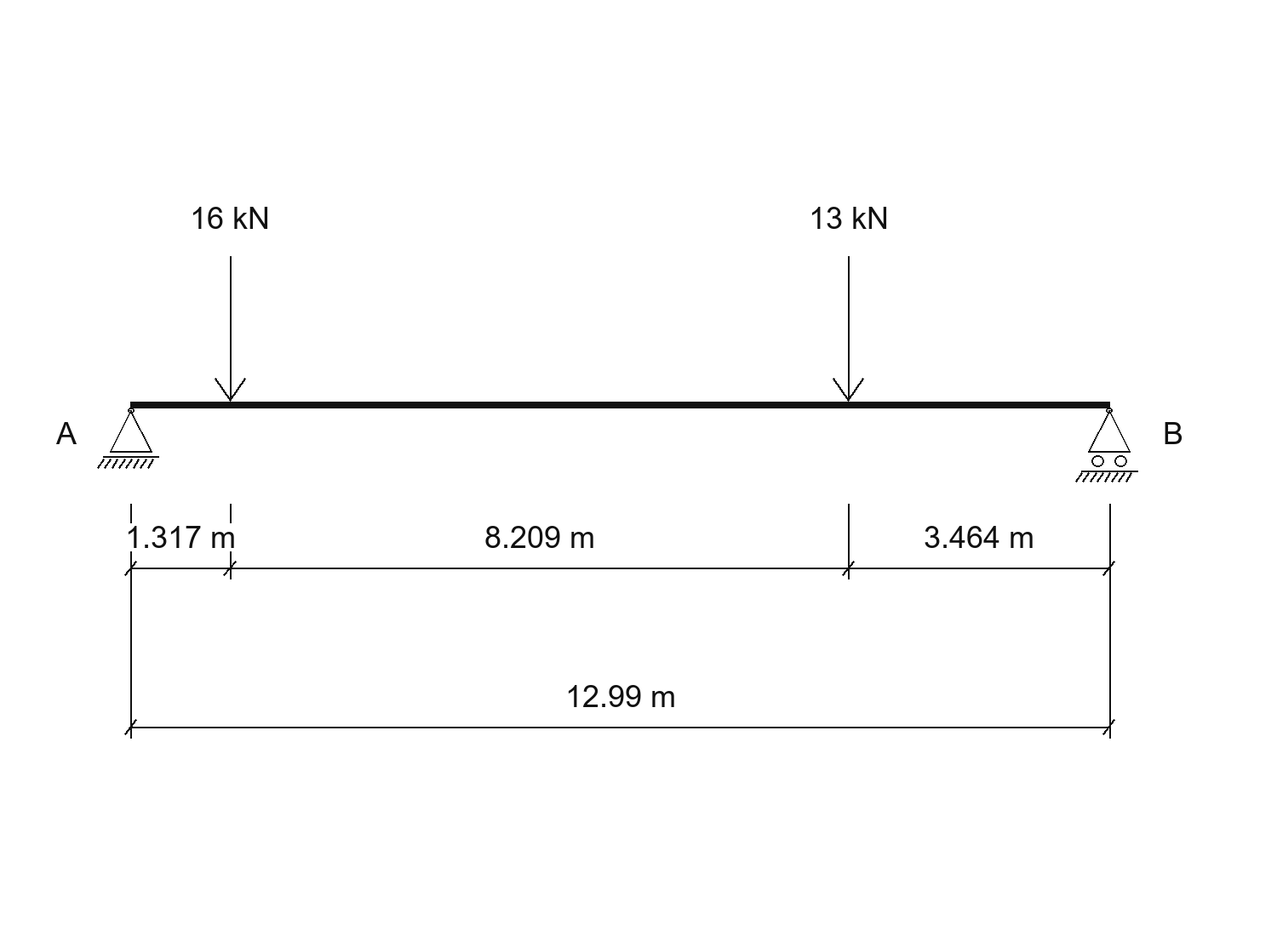pin_support: (97, 408, 159, 469)
point_load: (215, 256, 246, 402), (833, 256, 864, 402)
roller_support: (1075, 408, 1138, 482)
